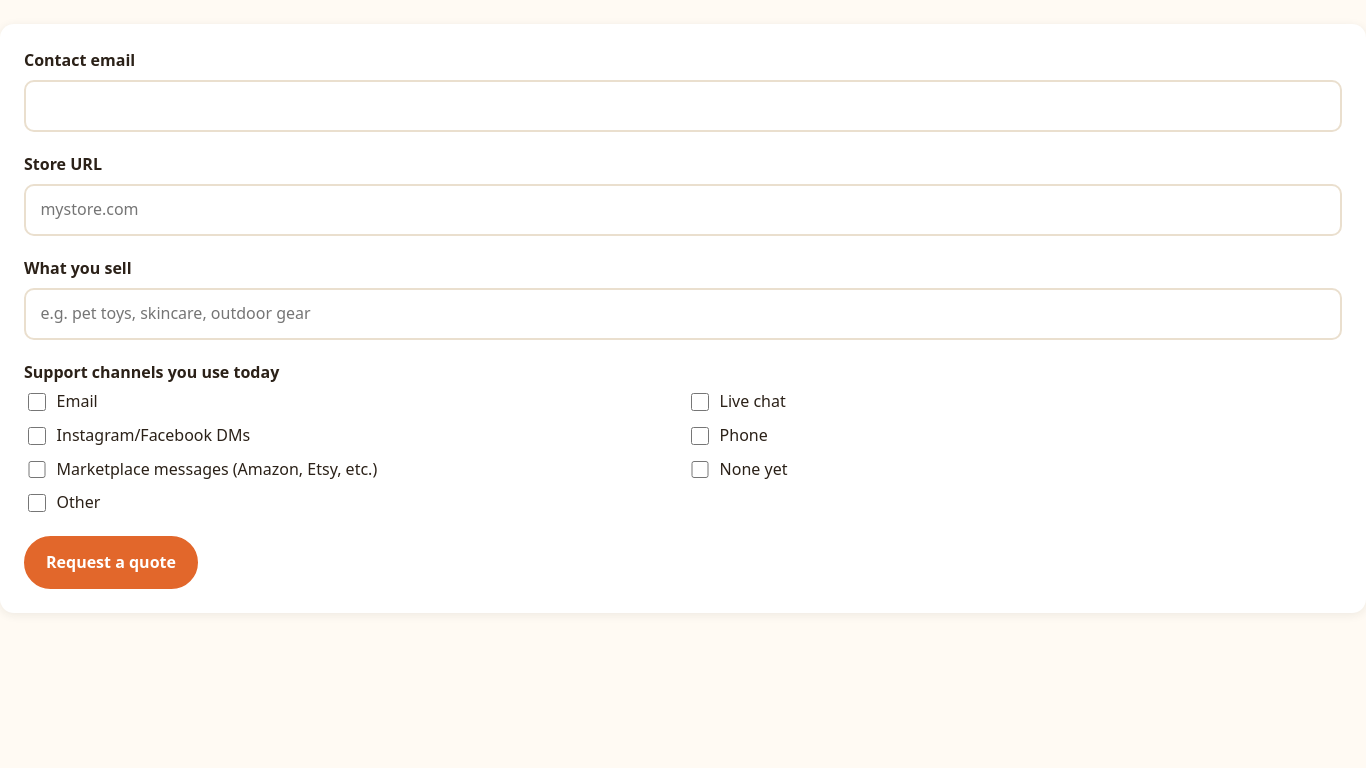
QuoteForm › shows field errors, focuses the first one, and does not submit an empty form
The width and height of the screenshot is (1366, 768).
Click the button "Request a quote".
click(111, 563)  # box 24,536 -> 198,589
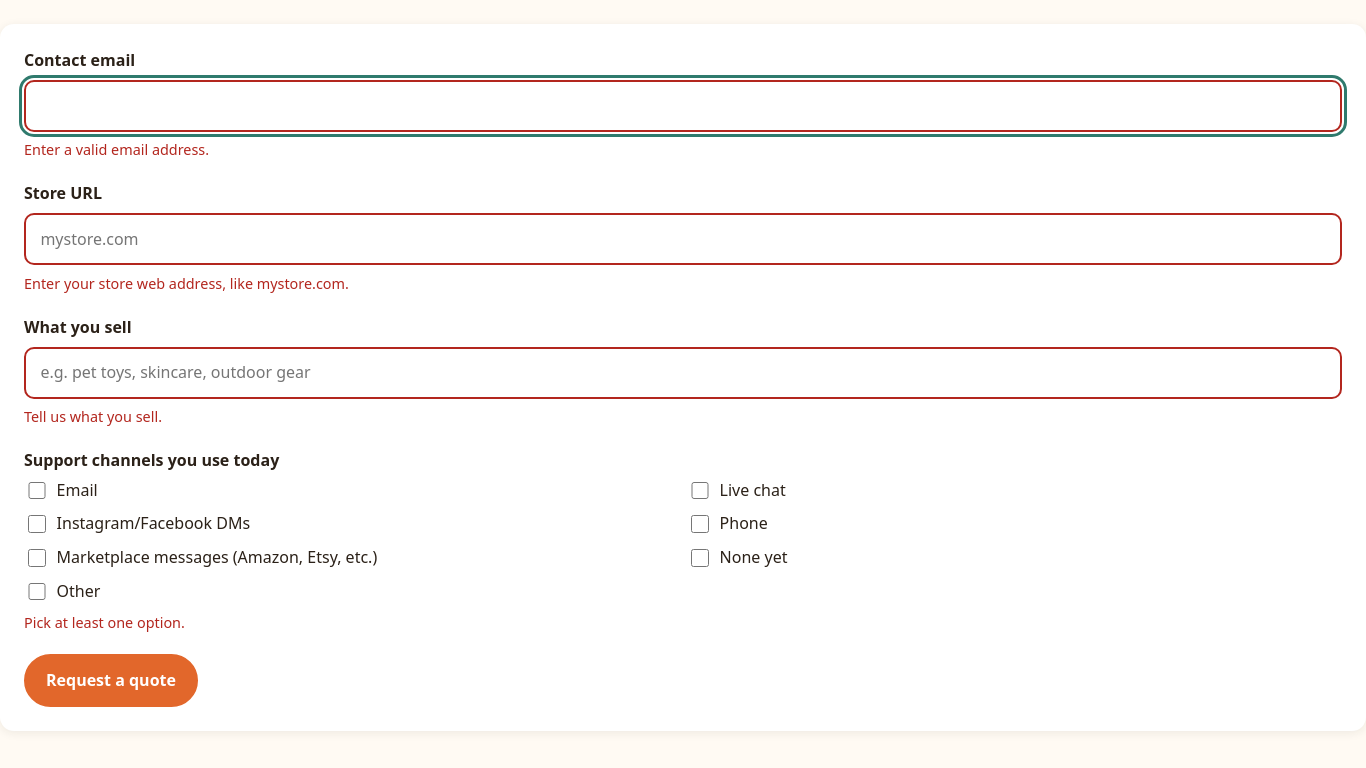
Check: the text "Enter a valid email address." is shown, box 24,140 -> 209,159
Check: the text "Enter your store web address, like mystore.com." is shown, box 24,274 -> 349,293
Check: the text "Tell us what you sell." is shown, box 24,407 -> 162,426
